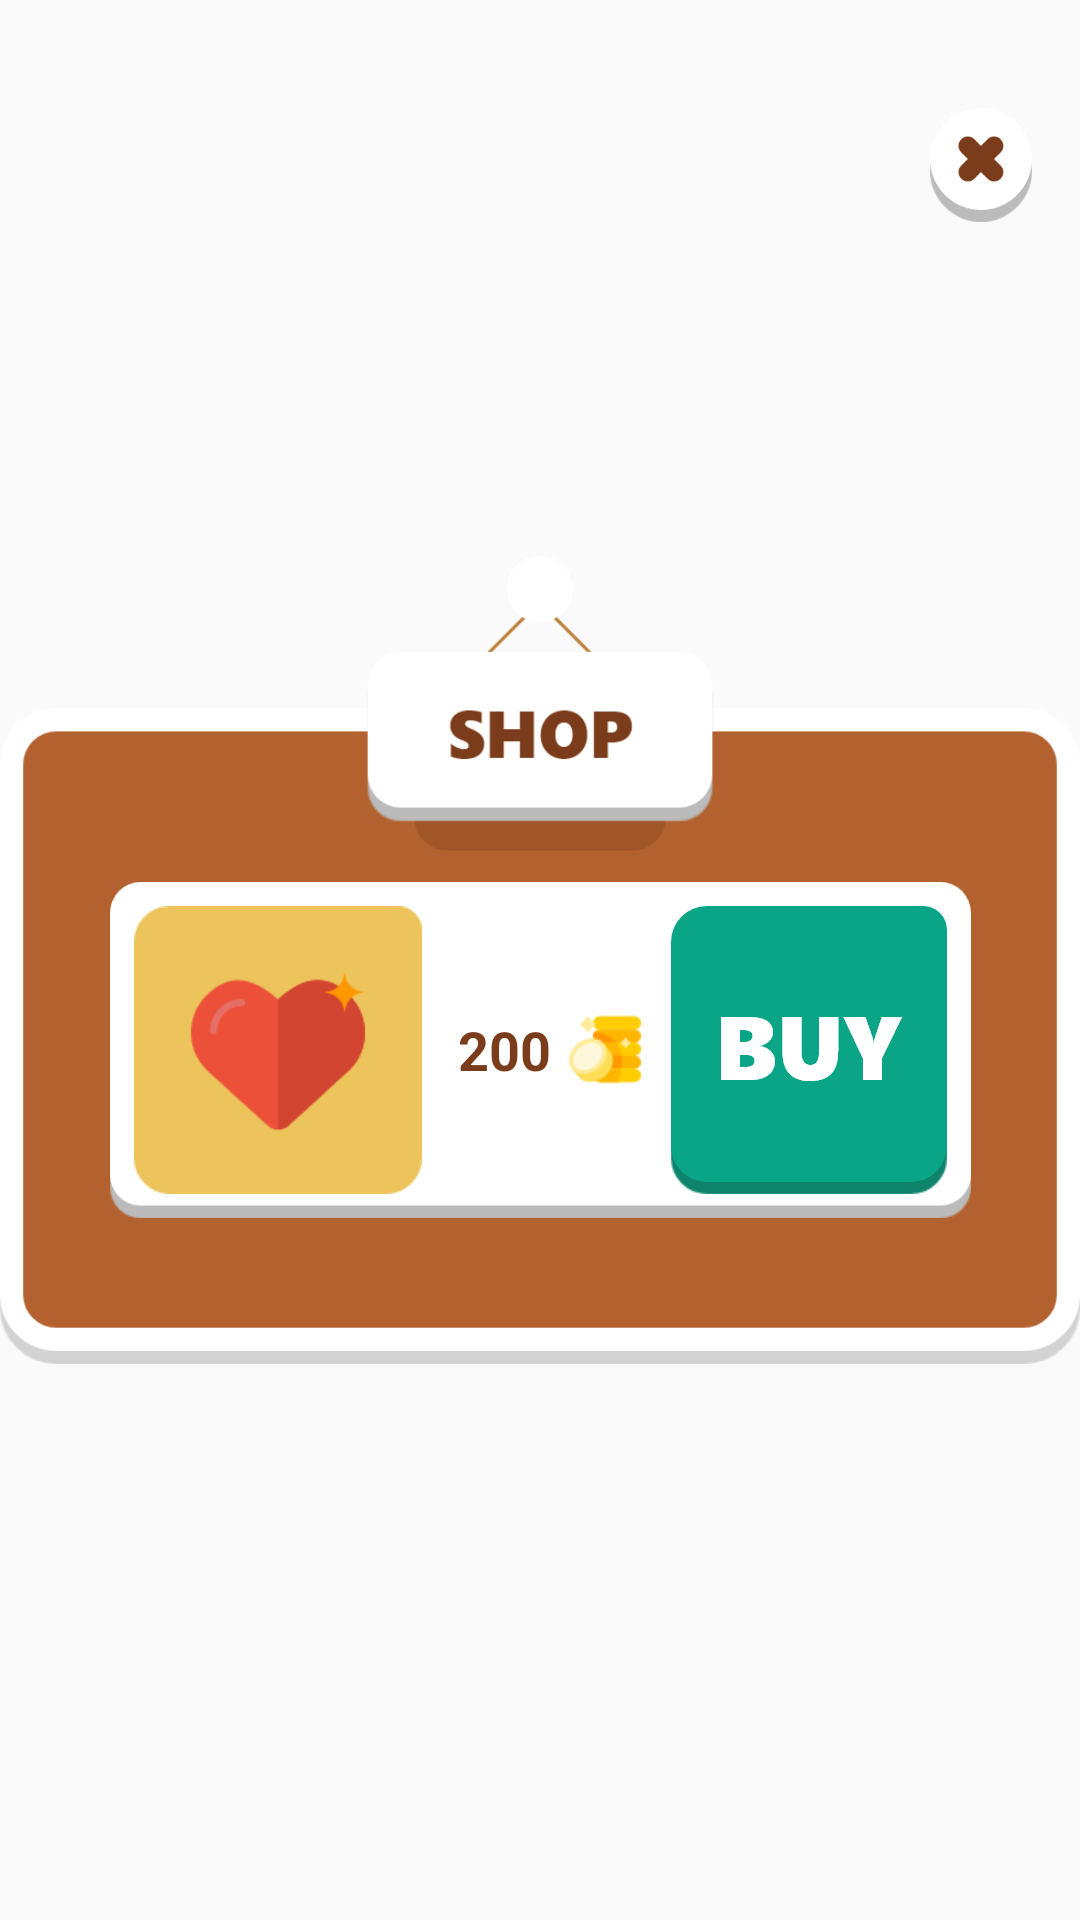

Where icons sit on this 1080px×1920px app screen, as (x1, y1, x2, y2):
close: (930, 136, 1032, 222)
coins: (569, 1015, 641, 1084)
heart: (134, 906, 422, 1194)
